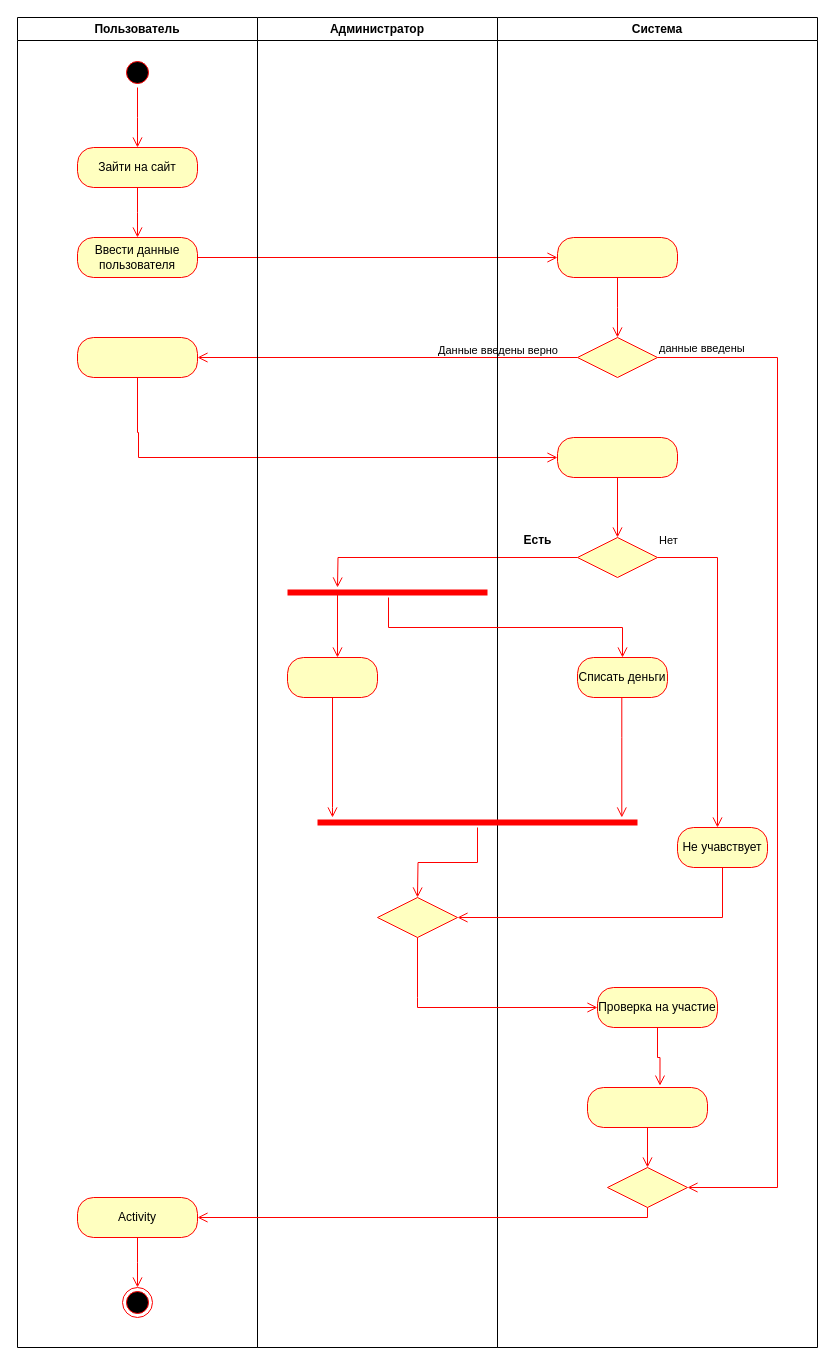
The diagram is 835 pixels wide and 1365 high, and some of its shapes have lost their labels. The shapes that lost their labels are listed below. From the top down, each one's centre as x and y in pixels, then its label:
pixel 617 257: Авторизация
pixel 137 357: Участвовать в аукционе
pixel 617 457: Проверка счета на сайте
pixel 332 677: Выдать лот
pixel 647 1107: Вывод баланса
